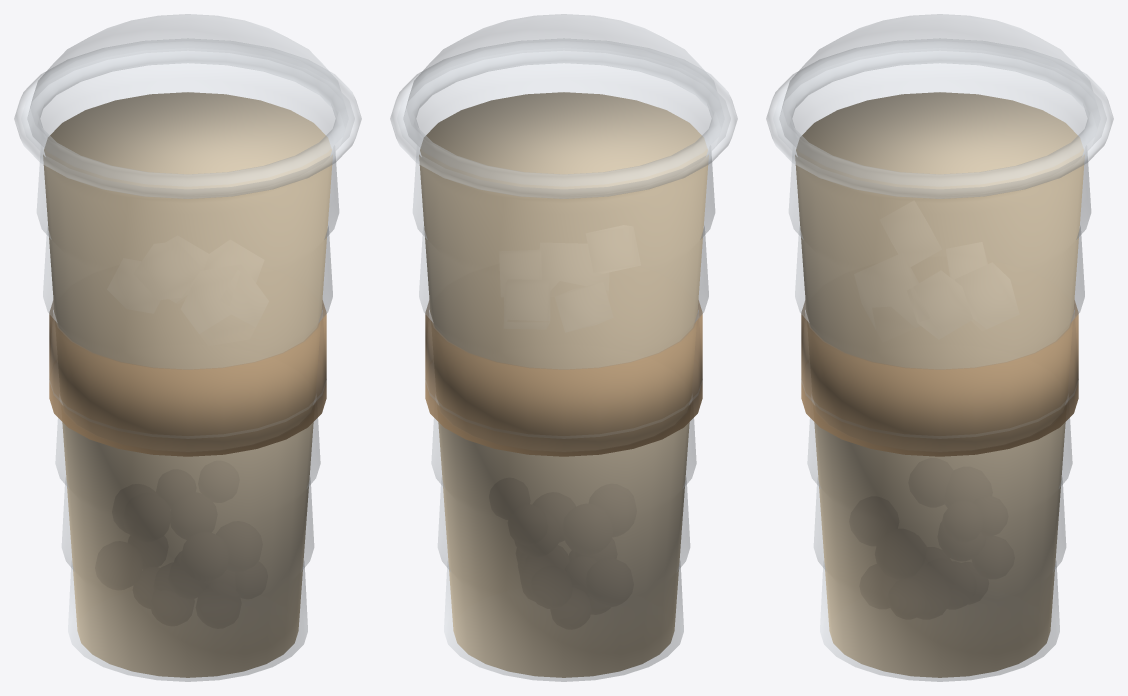
File: prop_milk_tea.glb
3 views of the same model, side by side, from view 1: azimuth 30°, elevation 25°; view 2: azimuth 150°, elevation 25°; view 3: azimuth 270°, elevation 25° (orthographic).
Parts seen in each view (by area): view 1: prop_milk_tea; view 2: prop_milk_tea; view 3: prop_milk_tea.
Part boxes in pixels (left/top/right/bottom): prop_milk_tea: left=14, top=14, right=361, bottom=681; prop_milk_tea: left=390, top=14, right=737, bottom=681; prop_milk_tea: left=766, top=14, right=1113, bottom=681.
Size of the model in its own units: 0.0927 by 0.1742 by 0.0927.
